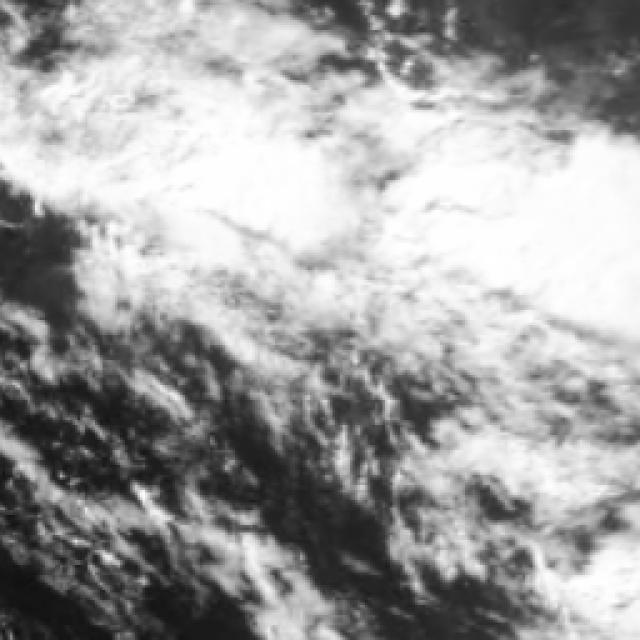CB: (409, 140, 567, 300), (164, 120, 336, 262), (47, 99, 253, 201), (485, 167, 640, 300)
